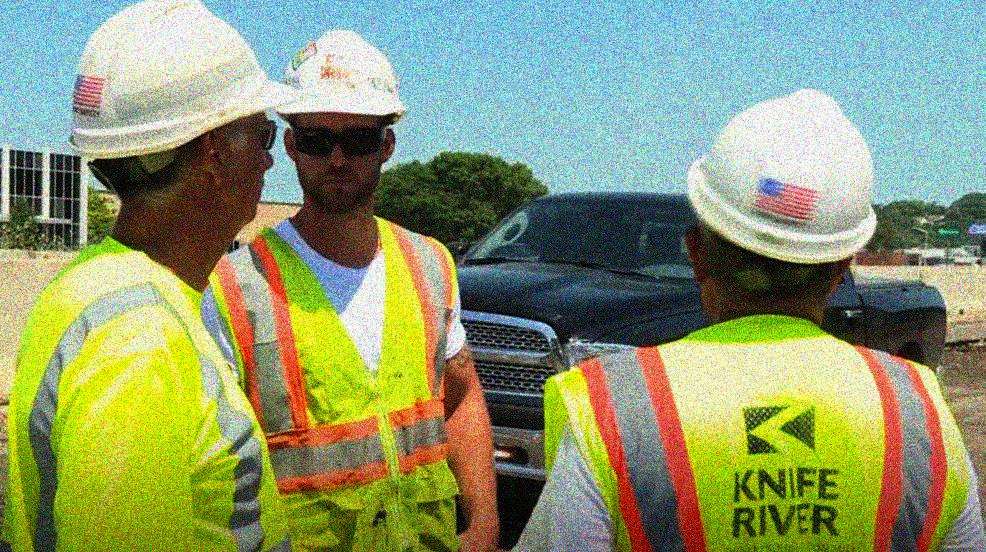helmet: (68, 1, 299, 233), (683, 87, 879, 313), (277, 27, 409, 214)
